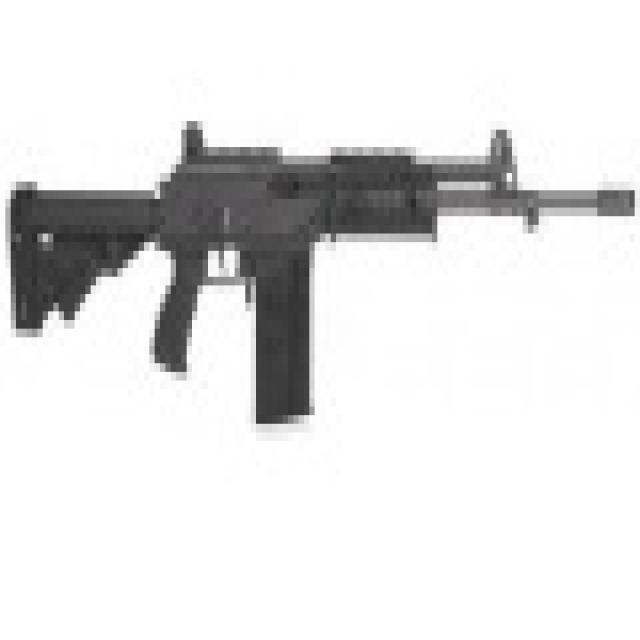Gun: (0, 114, 639, 441)
